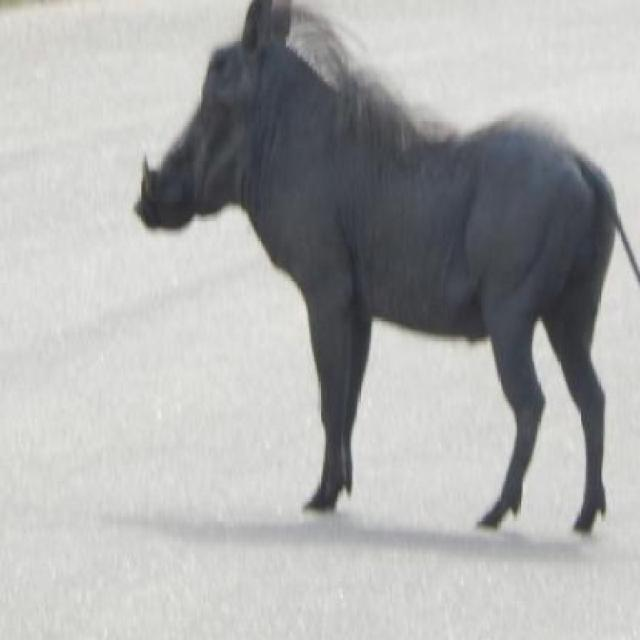Boar: (132, 0, 640, 534)
